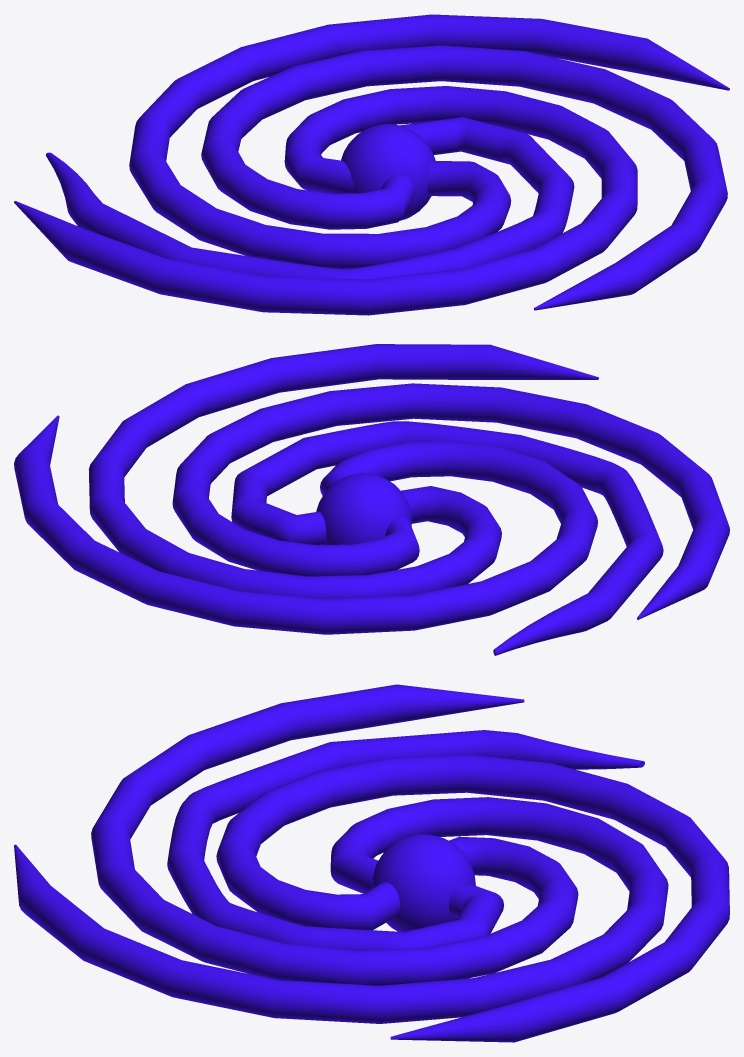
File: galaxy.glb
3 renders of one model, top to bottom at view 1: azimuth 30°, elevation 25°; view 2: azimuth 150°, elevation 25°; view 3: azimuth 270°, elevation 25°, orthographic. The views are drawn at different scales.
Visible parts, largest first — view 1: Sphere001; view 2: Sphere001; view 3: Sphere001.
Part boxes in pixels (x1,y1,x2,y2): Sphere001: [14, 14, 729, 315]; Sphere001: [14, 344, 729, 655]; Sphere001: [14, 684, 729, 1042].
Size of the model in its own units: 17.84 by 2.29 by 15.69.
